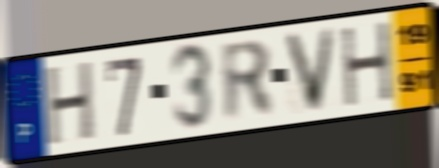3: (168, 39, 216, 135)
7: (104, 54, 144, 139)
H: (338, 18, 396, 111), (45, 57, 96, 150)
R: (217, 37, 278, 126)
V: (281, 25, 339, 116)
